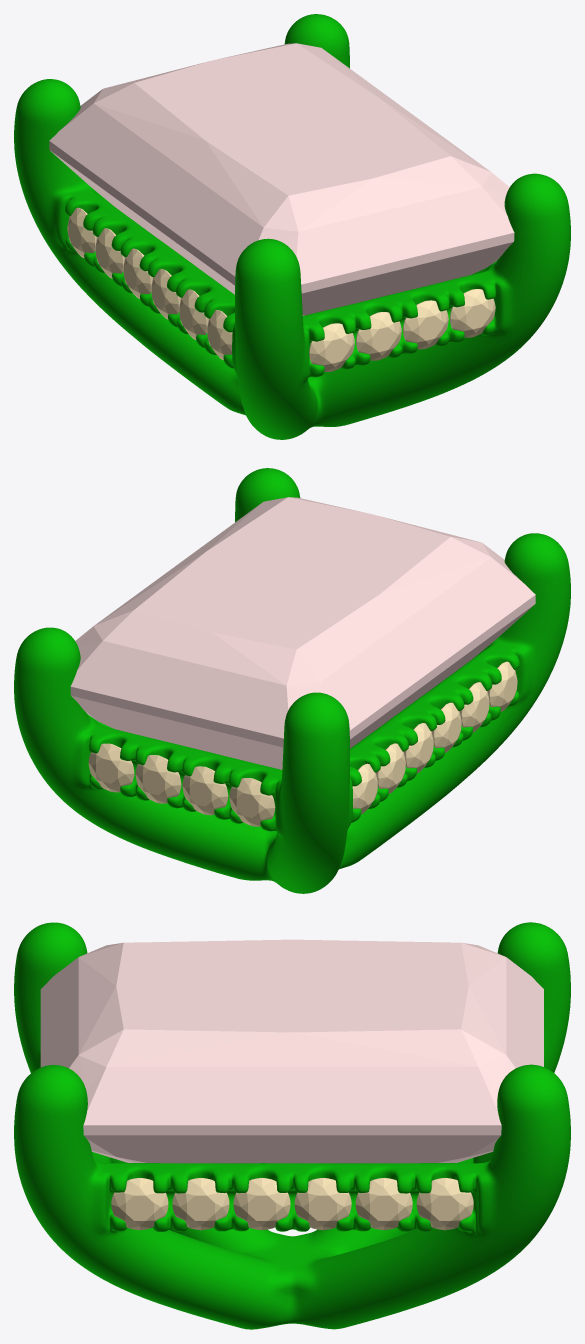
The picture shows the model from 3 angles, top to bottom: view 1: azimuth 30°, elevation 25°; view 2: azimuth 150°, elevation 25°; view 3: azimuth 270°, elevation 25°; orthographic projection. The views are drawn at different scales.
Parts seen in each view (by area): view 1: Diamond_Radiant, Metal01, Diamond_Round.001, Diamond_Round, Diamond_Round.002, Diamond_Round.003, Diamond_Round.012, Diamond_Round.013, Diamond_Round.010, Diamond_Round.011, Diamond_Round.009, Diamond_Round.008; view 2: Diamond_Radiant, Metal01, Diamond_Round.007, Diamond_Round.005, Diamond_Round.006, Diamond_Round.004, Diamond_Round.009, Diamond_Round.010, Diamond_Round.013, Diamond_Round.012, Diamond_Round.008, Diamond_Round.011; view 3: Diamond_Radiant, Metal01, Diamond_Round.016, Diamond_Round.019, Diamond_Round.015, Diamond_Round.014, Diamond_Round.017, Diamond_Round.018.
Boxes of the visible parts, <box> form: Diamond_Radiant: <box>49,43,514,315</box>; Metal01: <box>14,14,570,439</box>; Diamond_Round.001: <box>403,300,448,349</box>; Diamond_Round: <box>449,289,495,337</box>; Diamond_Round.002: <box>356,312,401,360</box>; Diamond_Round.003: <box>309,323,354,371</box>; Diamond_Round.012: <box>95,228,125,278</box>; Diamond_Round.013: <box>123,248,153,298</box>; Diamond_Round.010: <box>151,269,180,319</box>; Diamond_Round.011: <box>67,207,97,257</box>; Diamond_Round.009: <box>179,289,208,339</box>; Diamond_Round.008: <box>206,310,232,360</box>; Diamond_Radiant: <box>70,497,535,769</box>; Metal01: <box>14,468,570,893</box>; Diamond_Round.007: <box>135,755,181,803</box>; Diamond_Round.005: <box>182,766,228,815</box>; Diamond_Round.006: <box>88,743,134,792</box>; Diamond_Round.004: <box>229,778,275,826</box>; Diamond_Round.009: <box>459,682,489,732</box>; Diamond_Round.010: <box>431,702,461,752</box>; Diamond_Round.013: <box>404,723,433,773</box>; Diamond_Round.012: <box>376,743,405,793</box>; Diamond_Round.008: <box>487,661,517,711</box>; Diamond_Round.011: <box>352,763,378,814</box>; Diamond_Radiant: <box>40,939,543,1163</box>; Metal01: <box>14,922,570,1329</box>; Diamond_Round.016: <box>233,1178,290,1230</box>; Diamond_Round.019: <box>294,1178,351,1230</box>; Diamond_Round.015: <box>172,1178,229,1230</box>; Diamond_Round.014: <box>111,1178,168,1230</box>; Diamond_Round.017: <box>416,1178,473,1230</box>; Diamond_Round.018: <box>355,1178,412,1230</box>.
Bounding box in the file's own units: 7.97 × 6.89 × 10.73.
